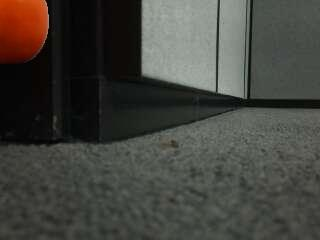Orange: (0, 0, 50, 67)
